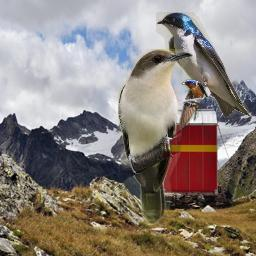Cuckoo: (118, 49, 193, 227)
Swallow: (156, 12, 252, 118), (178, 79, 210, 130)
